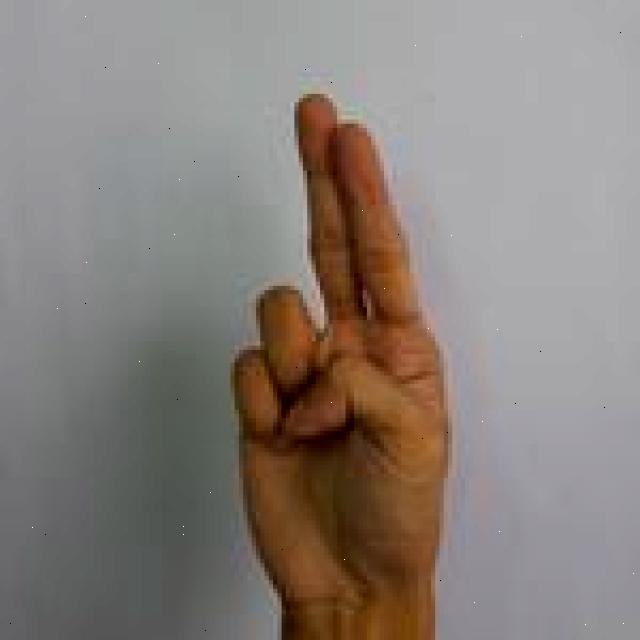U: (230, 86, 456, 640)
